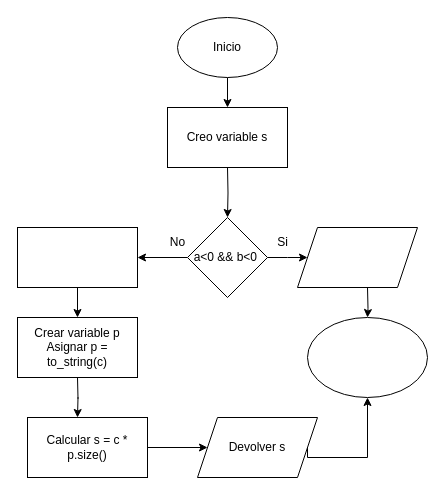
Image size: 445x495. Some labels were removed from this diagram. Here are the shapes that lost their labels. From the top down, the centre of each, then its label:
(77,257): Crear variable c Calcular c = a/b
(357,257): Devolver 0
(367,357): Fin
